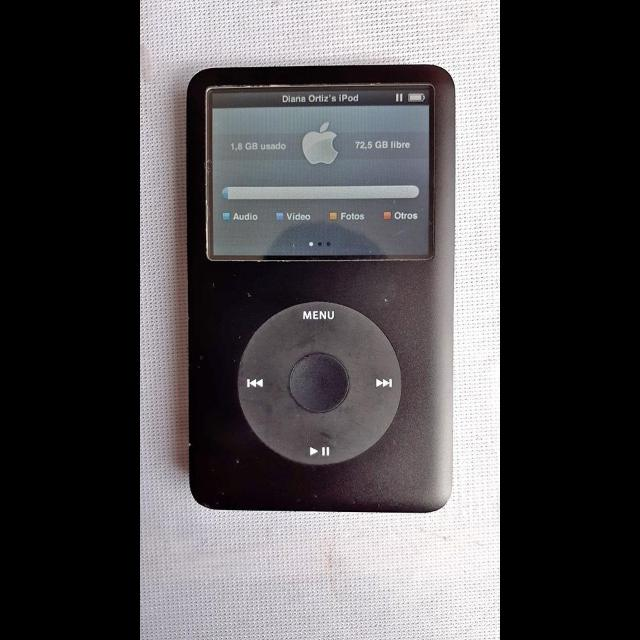Music-Player: (175, 55, 473, 521)
